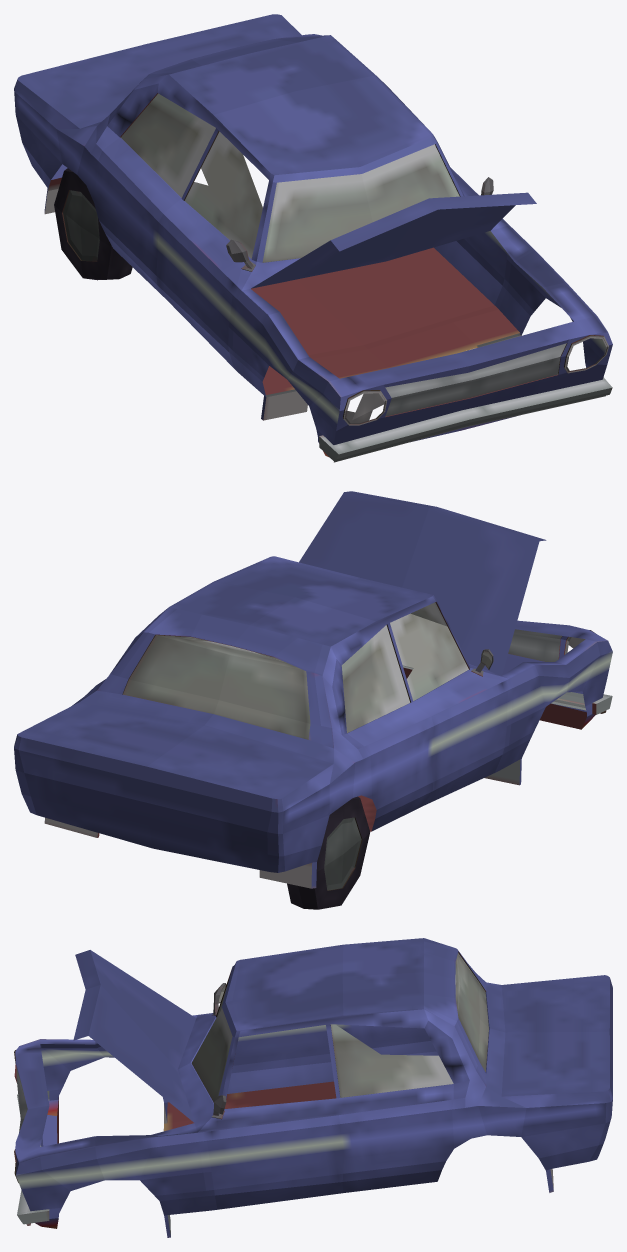
The model's file is Car7.fbx.
The picture shows the model from 3 angles, top to bottom: view 1: azimuth 30°, elevation 25°; view 2: azimuth 150°, elevation 25°; view 3: azimuth 270°, elevation 25°; orthographic projection. The views are drawn at different scales.
Visible parts, largest first — view 1: Cube.002; view 2: Cube.002; view 3: Cube.002.
Boxes of the visible parts, bbox=[...] form: Cube.002: bbox=[14, 14, 612, 462]; Cube.002: bbox=[14, 491, 612, 909]; Cube.002: bbox=[14, 938, 612, 1237].
Size of the model in its own units: 206 by 165 by 425.
1 material, 1 textured.
